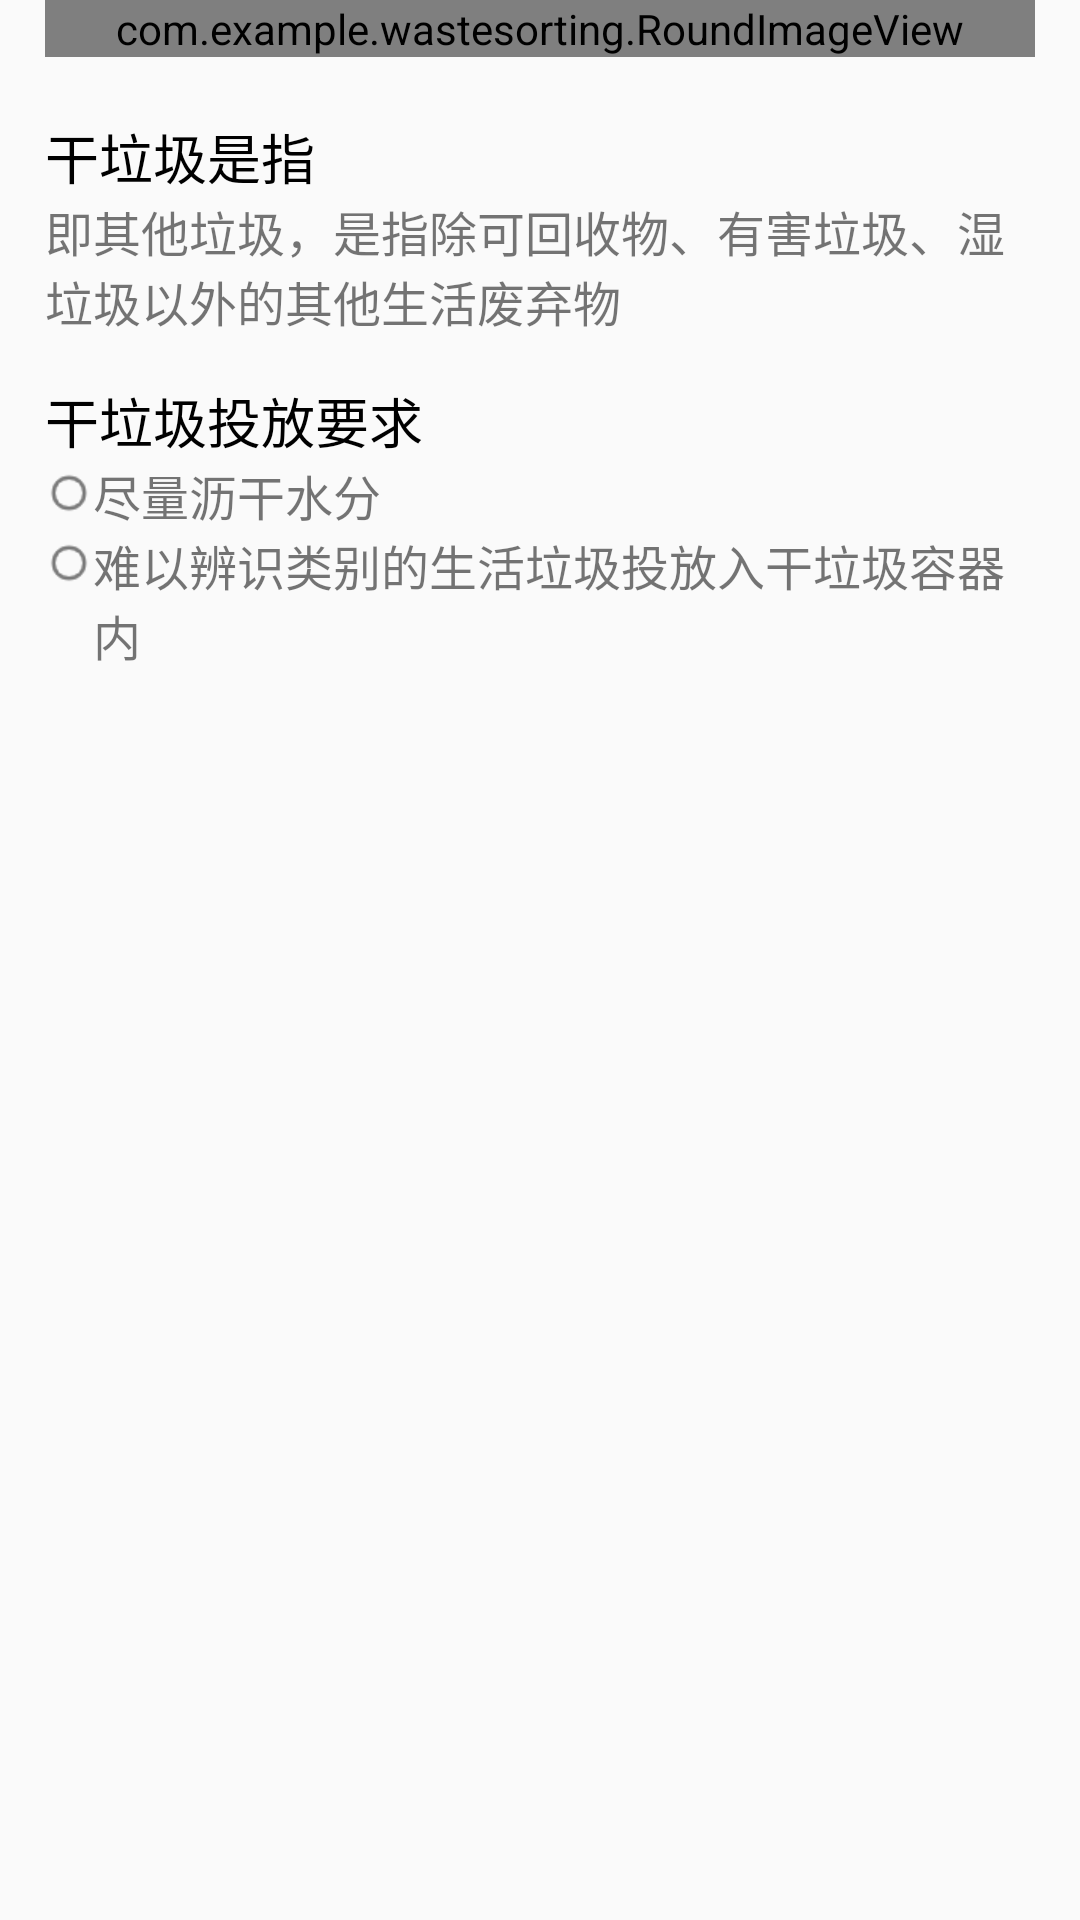

Icon bounding boxes for this 1080×1920 phone screenshot, format BBox(x1, y1, x2, y2):
circle: BBox(51, 475, 87, 511), BBox(51, 545, 87, 581)
